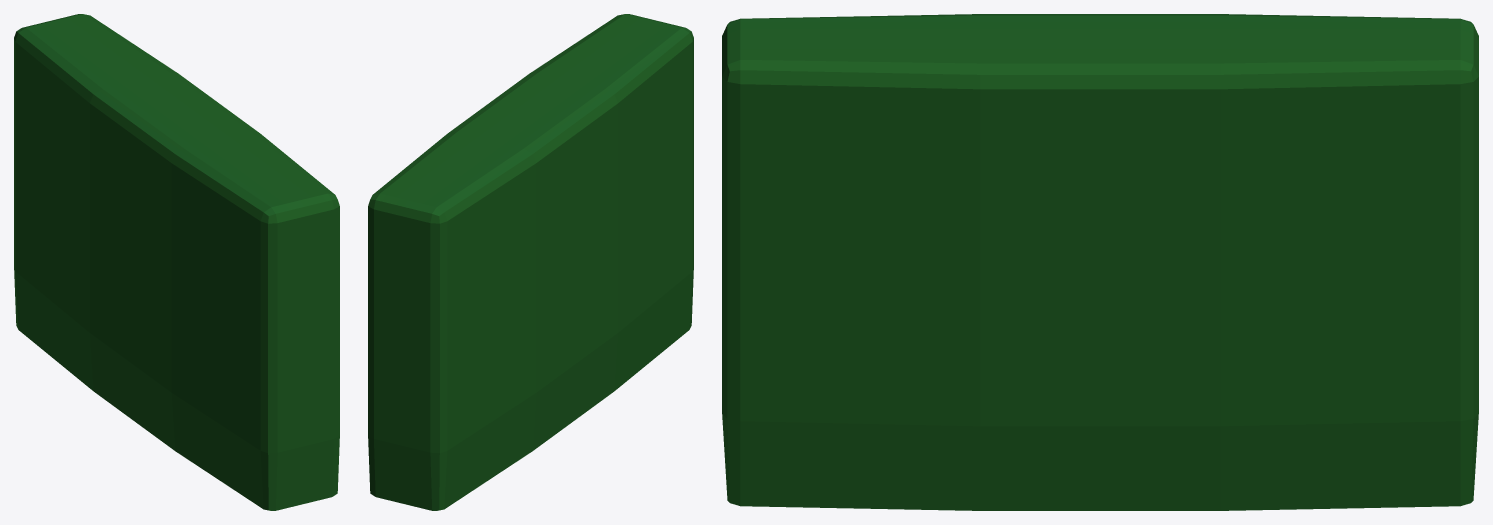
The model's file is Wall2.gltf.
3 views of the same model, side by side, from view 1: azimuth 30°, elevation 25°; view 2: azimuth 150°, elevation 25°; view 3: azimuth 270°, elevation 25° (orthographic). The views are drawn at different scales.
Parts seen in each view (by area): view 1: Wall2; view 2: Wall2; view 3: Wall2.
Boxes of the visible parts, x1,y1,x2,y2 form: Wall2: [14, 14, 339, 510]; Wall2: [368, 14, 693, 510]; Wall2: [722, 14, 1478, 510].
Bounding box in the file's own units: 0.8288 × 2.6 × 4.
1 material, 1 textured.
